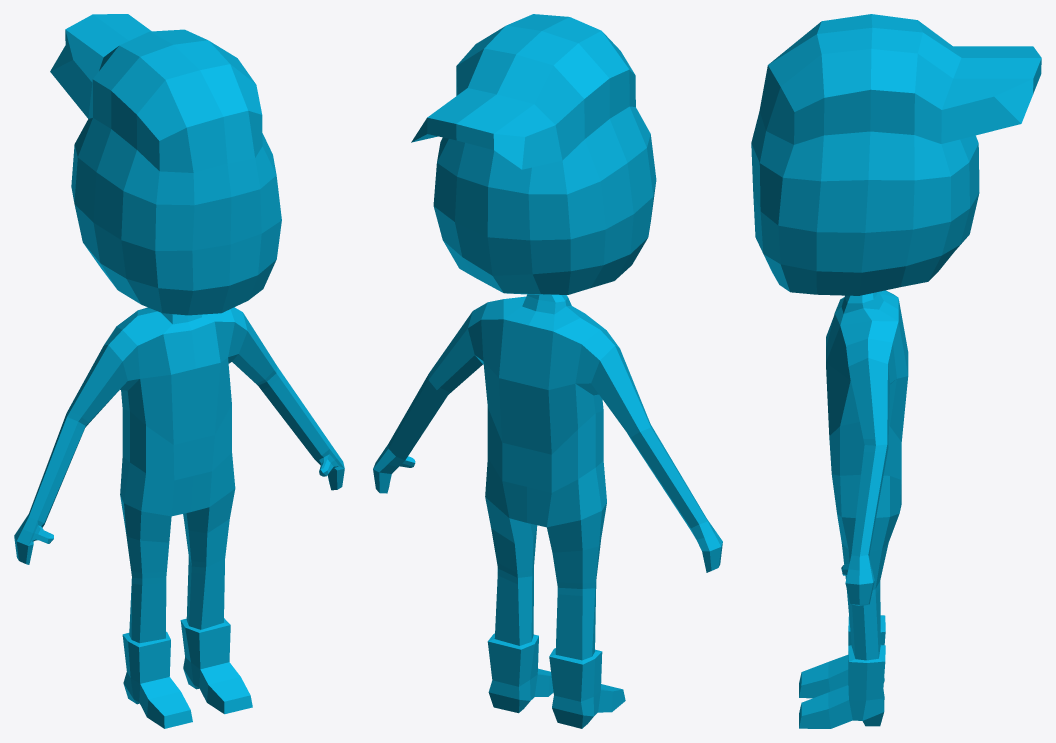
Rendered from Protagonist_Model.fbx.
3 renders of one model, left to right at view 1: azimuth 30°, elevation 25°; view 2: azimuth 150°, elevation 25°; view 3: azimuth 270°, elevation 25°, orthographic. The views are drawn at different scales.
Visible parts, largest first — view 1: Cube; view 2: Cube; view 3: Cube.
Part boxes in pixels (x1,y1,x2,y2): Cube: [14, 14, 344, 728]; Cube: [373, 14, 722, 728]; Cube: [751, 14, 1041, 728].
Size of the model in its own units: 291 by 551 by 214.
